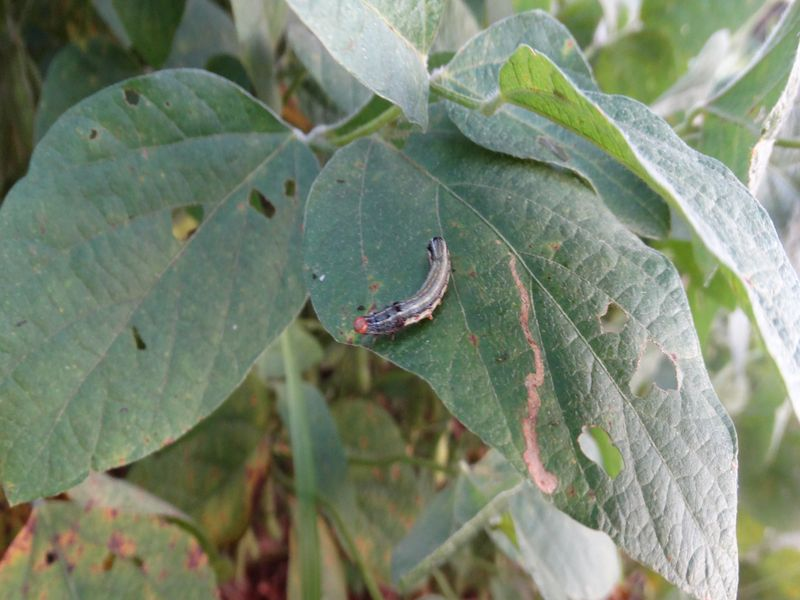Spodoptera_albula: (332, 223, 468, 356)
